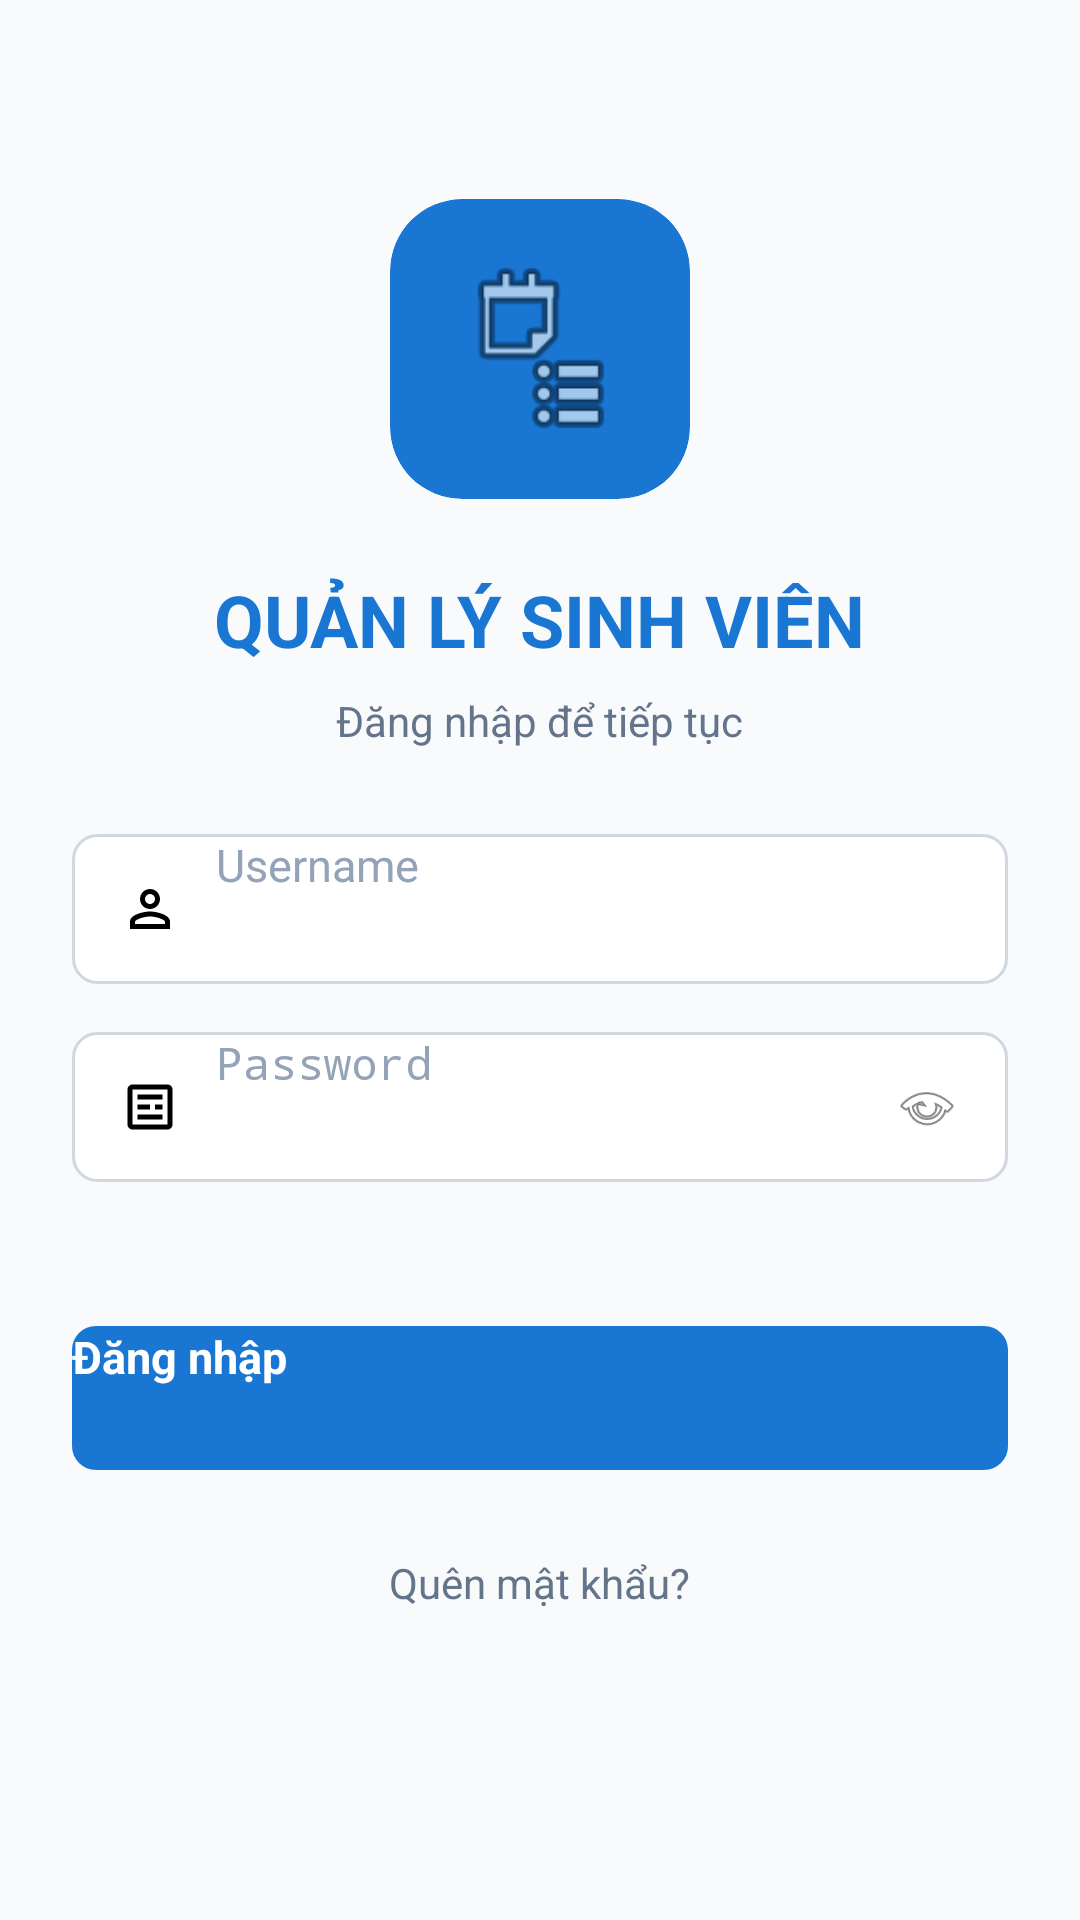

Locate icon controls on the screen. Image size 1080w x 1920h, boxes as Rect(x1, y1, x2, y2).
person: Rect(130, 889, 170, 929)
view: Rect(900, 1092, 954, 1126)
